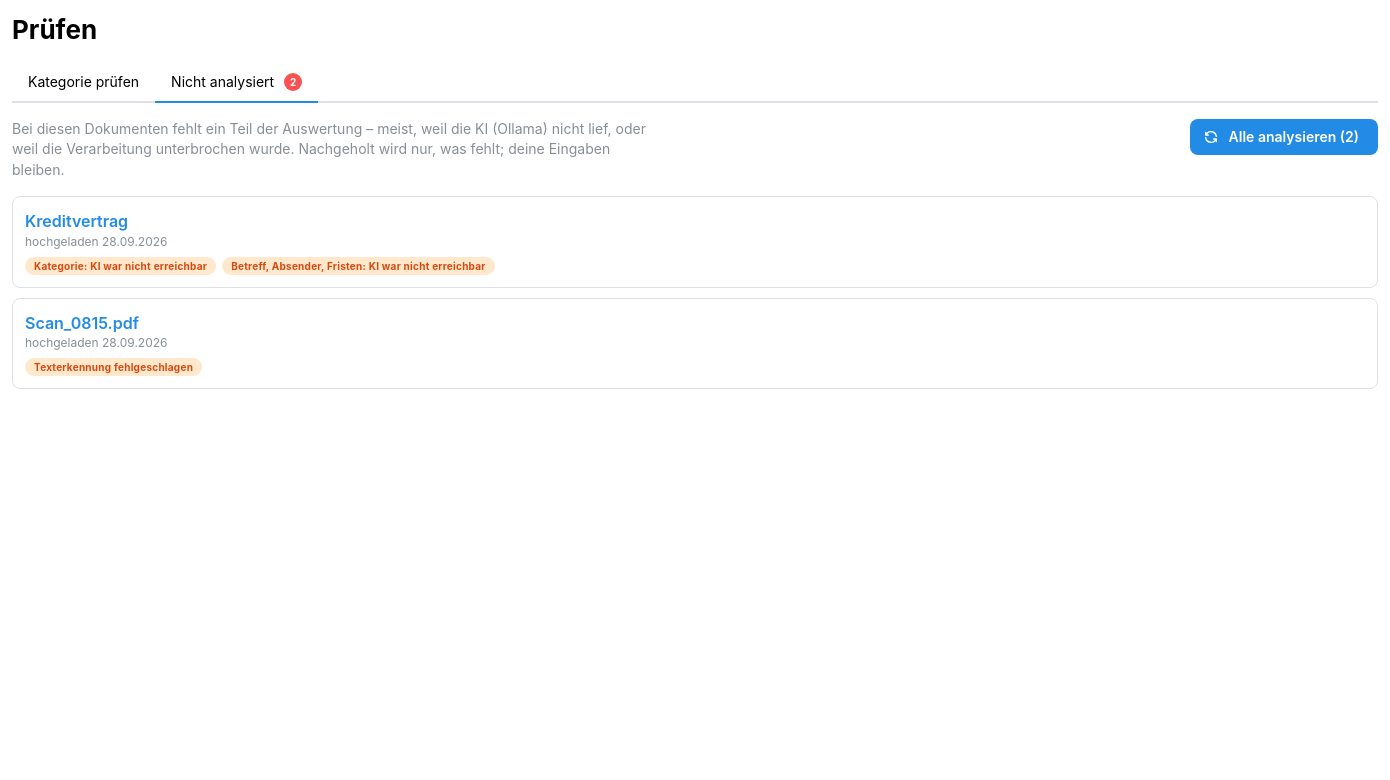
Test: ReviewPage – Nicht analysiert › zeigt fehlende Schritte und holt mit 'Alle analysieren' alles nach
Expected: the text "Kategorie: KI war nicht erreichbar" is shown, [34,258,207,274]
Expected: the text "Texterkennung fehlgeschlagen" is shown, [34,359,193,375]
Click the button "Alle analysieren (2)": (1284, 137) [1190,119,1378,155]
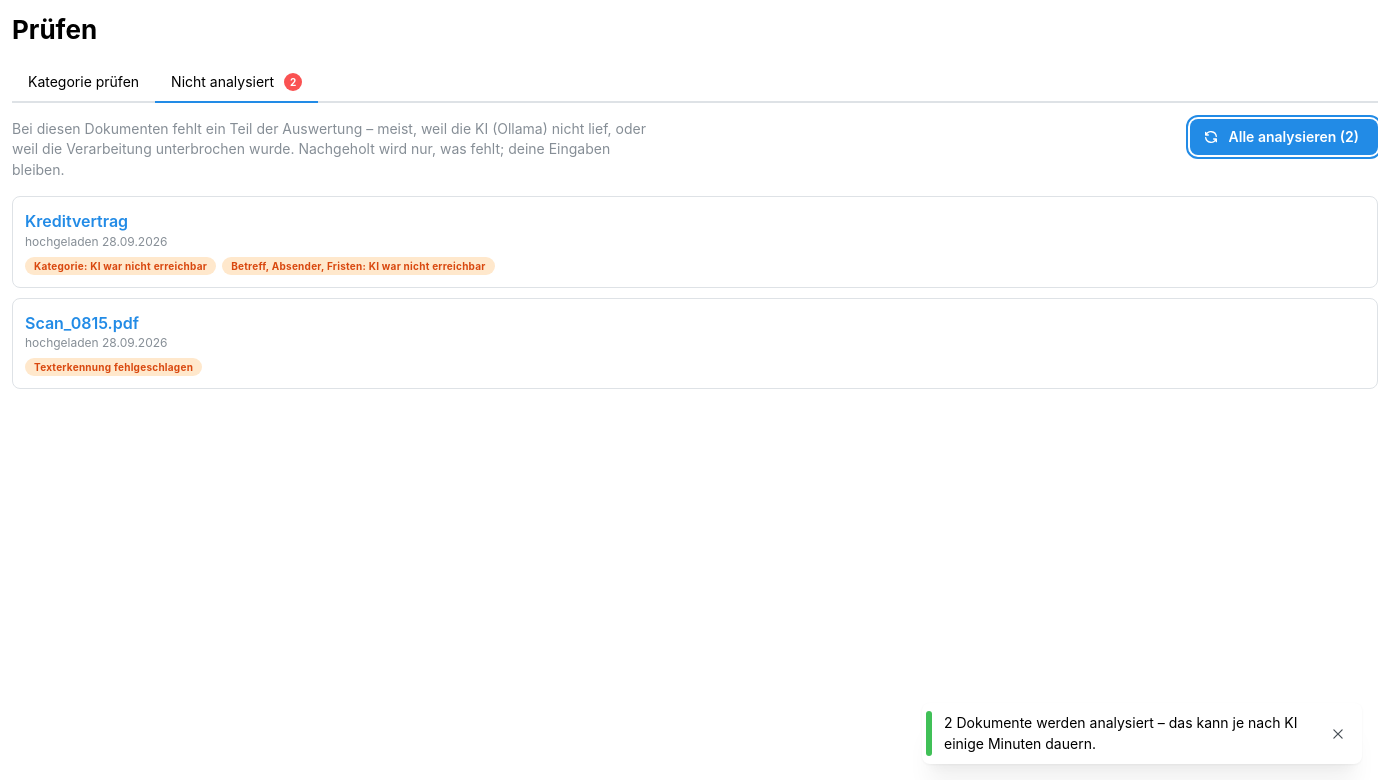
Now the text "2 Dokumente werden analysiert" is shown, box [944,714,1298,752]
